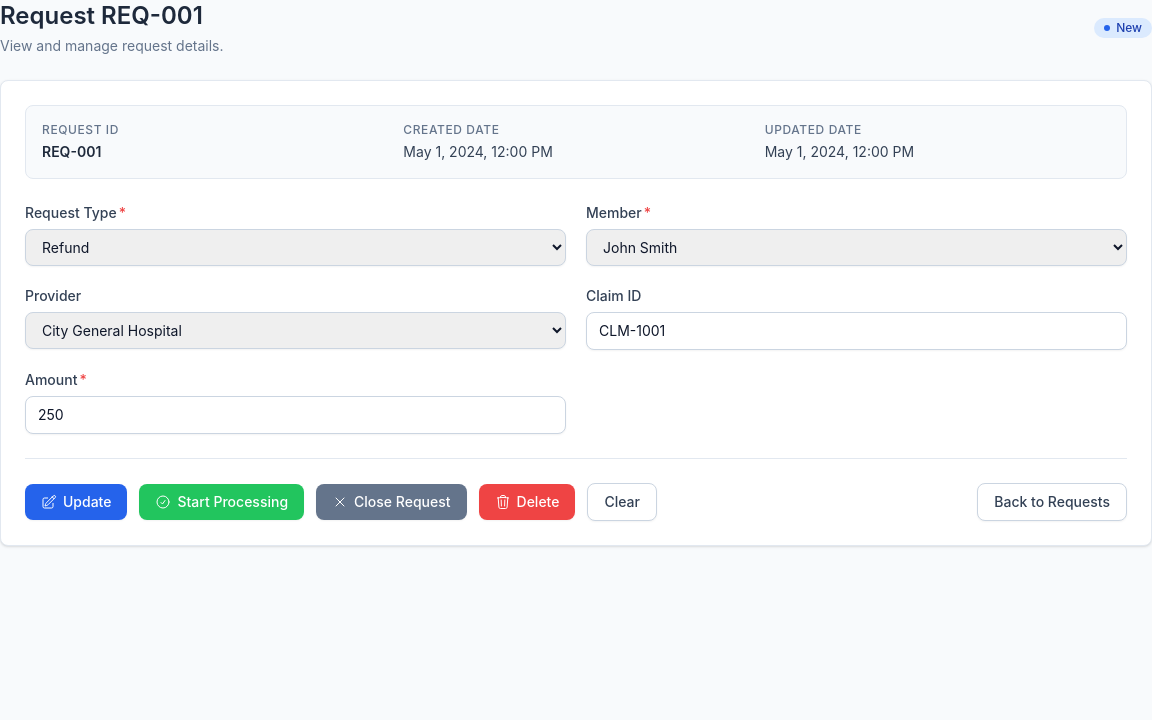
CreateEditRequest › edit mode - status change actions › transitions from New to In Progress when confirmed
Click the button "Start Processing" at (222, 502), box 140,484 -> 304,520
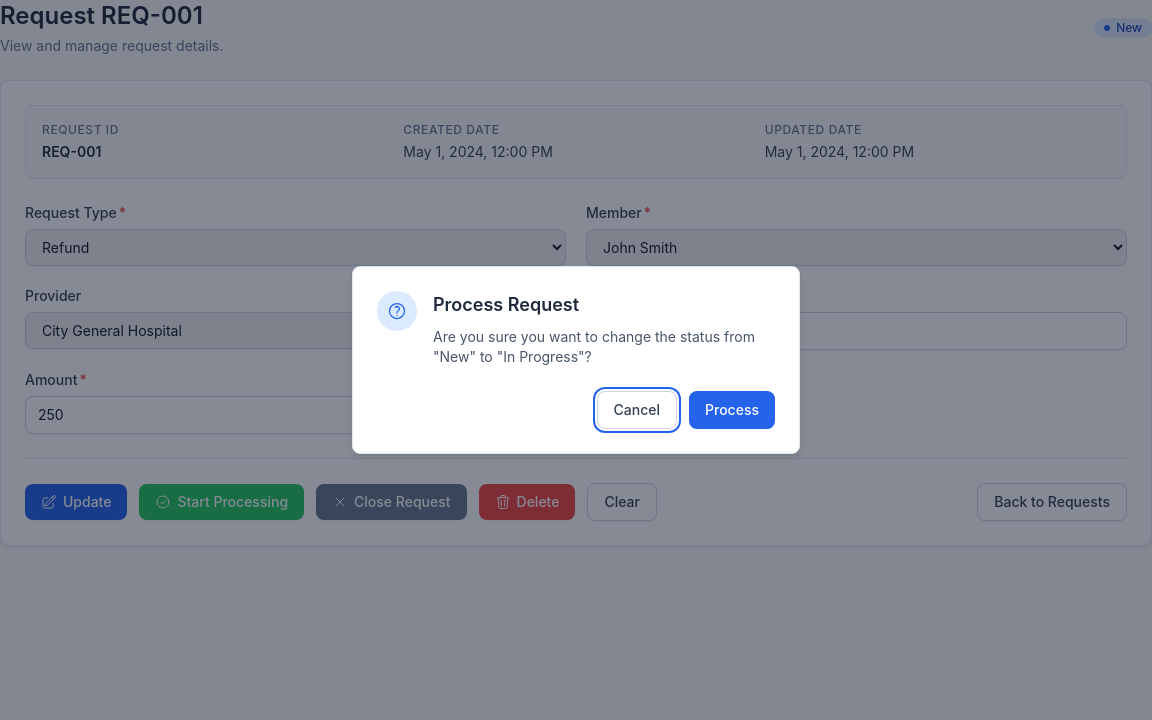
Click the button "Process" at (732, 410), box 689,391 -> 775,429
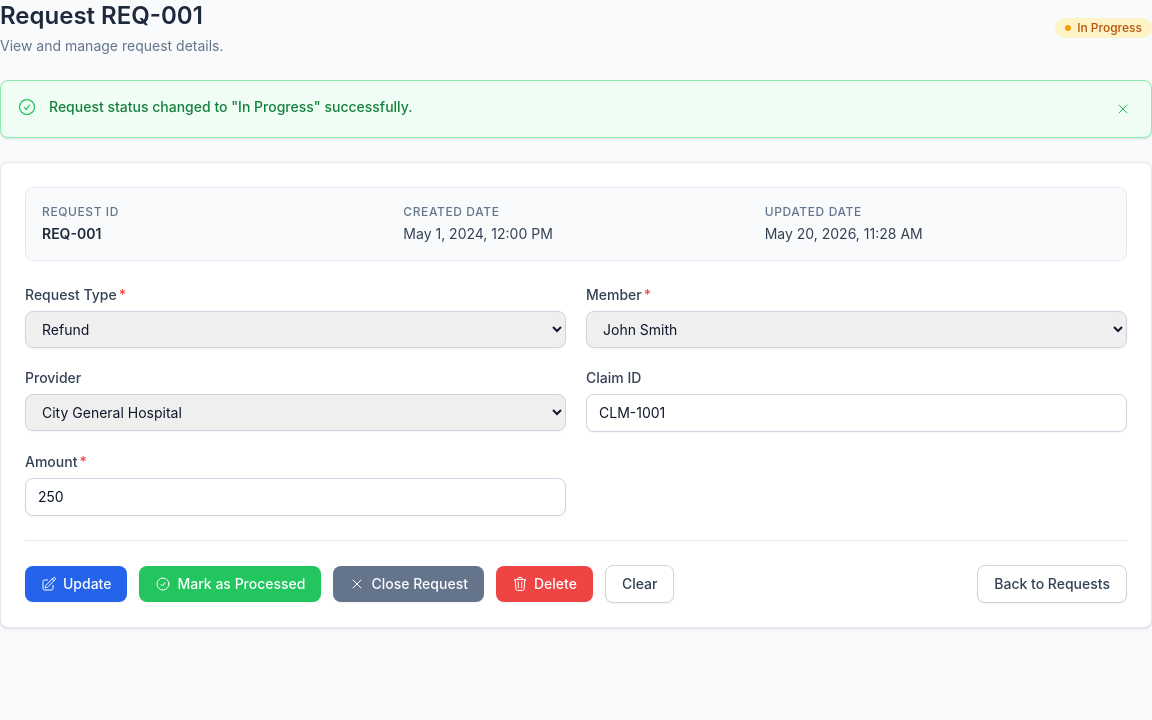
Result: the text "Request status changed to \"In Progress\" successfully." is shown at 49,98 -> 412,115
